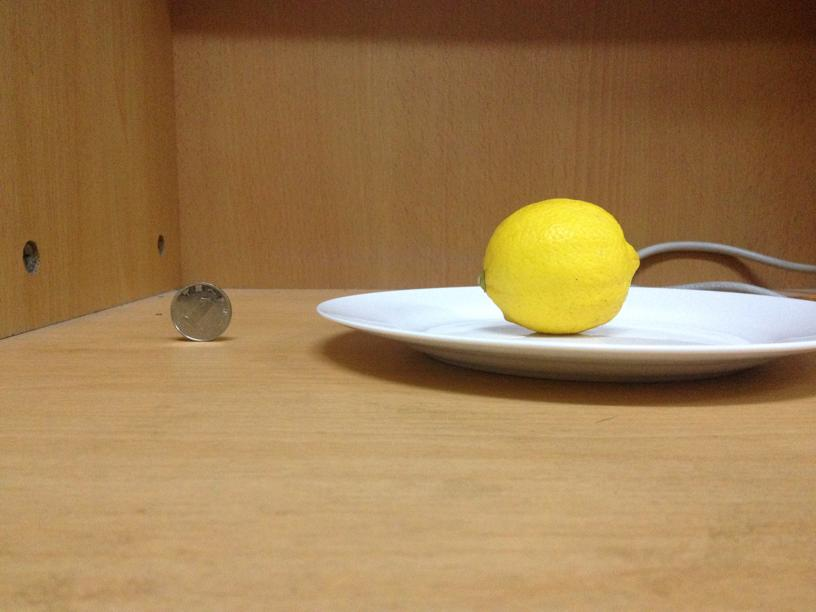coin: (167, 278, 233, 340)
lemon: (480, 193, 638, 332)
